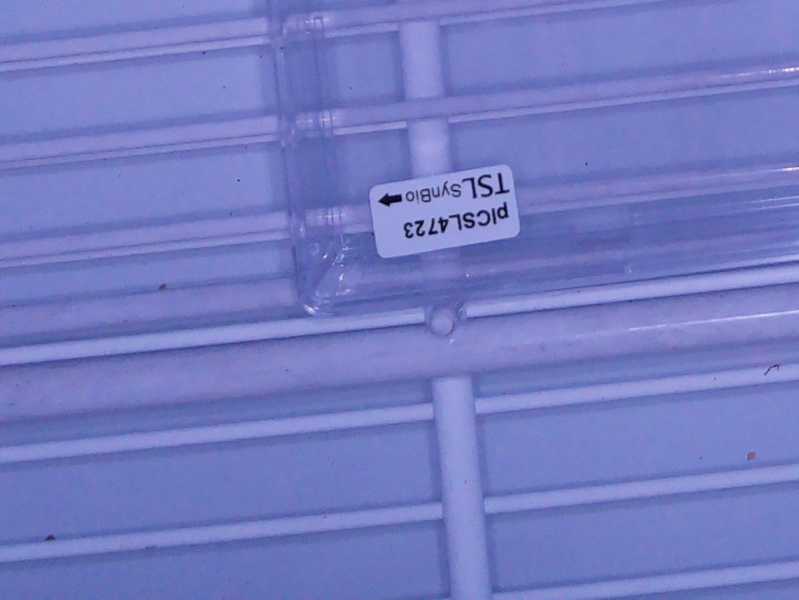plate: (263, 1, 799, 320)
